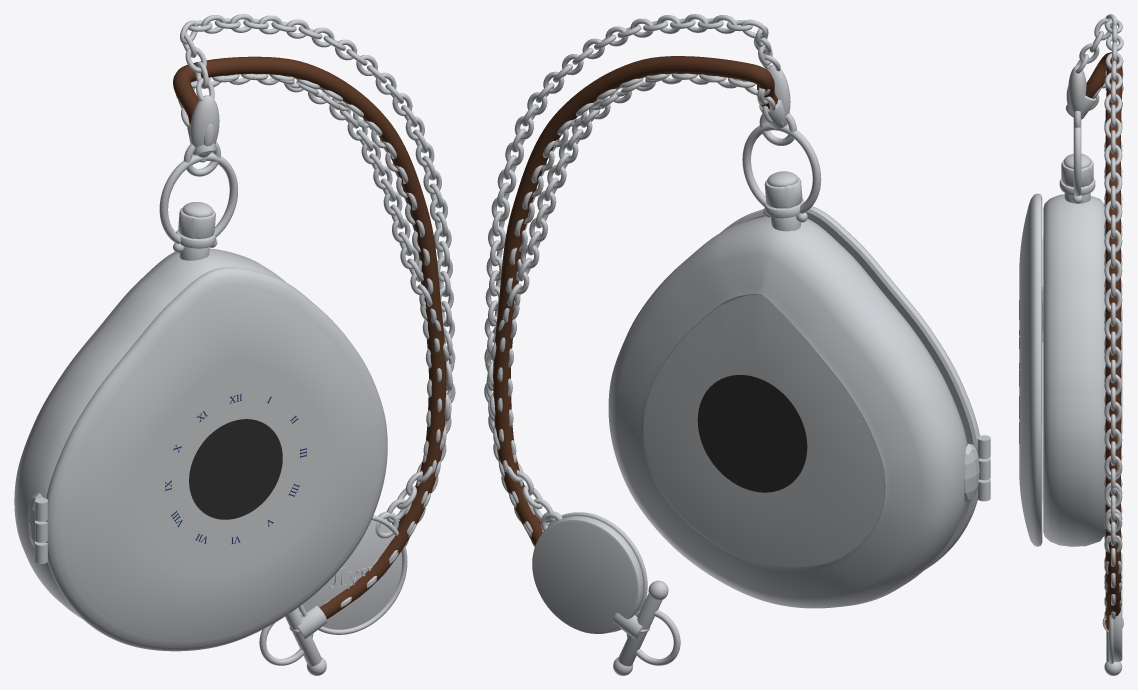
Rendered from pocket-drop.glb.
The picture shows the model from 3 angles, left to right: view 1: azimuth 30°, elevation 25°; view 2: azimuth 150°, elevation 25°; view 3: azimuth 270°, elevation 25°; orthographic projection. The views are drawn at different scales.
Visible parts, largest first — view 1: lid_half, lid_hunter, case, chain_leather, chain_chatelaine, chain_carabiner, engrave_lid, chain_classic, pendant, bow, hinge; view 2: case, case_back, chain_chatelaine, chain_leather, engrave_back, chain_carabiner, chain_classic, lid_hunter, pendant, bow, hinge, movement; view 3: case, chain_carabiner, lid_hunter, chain_leather, lid_half, chain_chatelaine, pendant, chain_classic, bow, bezel, crystal.
Part boxes in pixels (x1,y1,x2,y2): lid_half: (63, 286, 378, 640); lid_hunter: (35, 267, 387, 651); case: (14, 248, 285, 618); chain_leather: (173, 56, 446, 639); chain_chatelaine: (184, 73, 455, 634); chain_carabiner: (180, 14, 455, 665); engrave_lid: (189, 419, 282, 519); chain_classic: (176, 74, 441, 675); pendant: (173, 202, 217, 260); bow: (159, 153, 237, 243); hinge: (27, 493, 47, 563); case: (608, 216, 967, 608); case_back: (644, 294, 884, 566); chain_chatelaine: (484, 73, 784, 633); chain_leather: (493, 56, 796, 638); engrave_back: (697, 375, 807, 492); chain_carabiner: (484, 14, 790, 665); chain_classic: (497, 74, 783, 675); lid_hunter: (720, 206, 990, 570); pendant: (763, 171, 807, 231); bow: (742, 123, 821, 213); hinge: (964, 435, 990, 502); movement: (643, 293, 885, 567); case: (1043, 194, 1105, 546); chain_carabiner: (1066, 14, 1123, 626); lid_hunter: (1028, 193, 1042, 546); chain_leather: (1065, 52, 1123, 632); lid_half: (1019, 207, 1028, 532); chain_chatelaine: (1081, 71, 1123, 664); pendant: (1059, 153, 1095, 203); chain_classic: (1081, 70, 1123, 675); bow: (1073, 118, 1081, 196); bezel: (1043, 208, 1043, 532); crystal: (1042, 241, 1042, 499).
Size of the model in its own units: 68.68 by 97.29 by 15.3.
